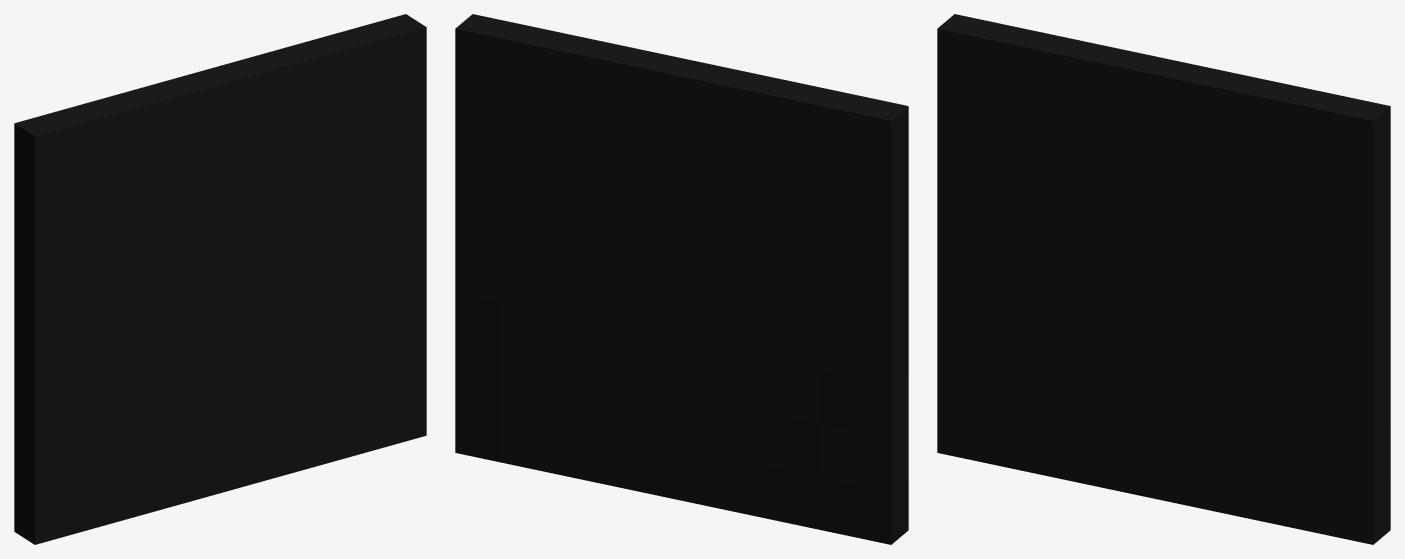
Rendered from seat__seat_pan.glb.
The picture shows the model from 3 angles, left to right: view 1: azimuth 30°, elevation 25°; view 2: azimuth 150°, elevation 25°; view 3: azimuth 330°, elevation 25°; orthographic projection. The views are drawn at different scales.
Parts seen in each view (by area): view 1: world; view 2: world; view 3: world.
Part boxes in pixels (x1,y1,x2,y2): world: (14,14,426,544); world: (455,14,908,544); world: (937,14,1390,544).
Bounding box in the file's own units: 0.2507 × 0.24 × 0.035.
1 material, 1 textured.
